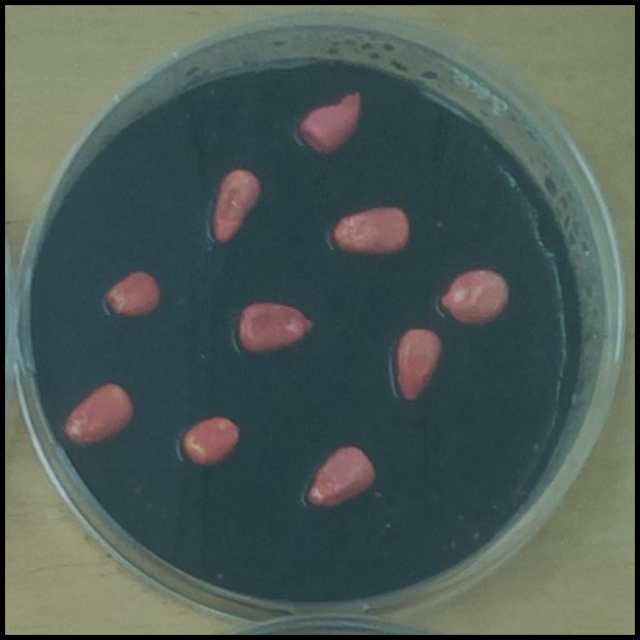Zea mays: (55, 376, 141, 454), (297, 440, 383, 517), (230, 294, 321, 364), (323, 198, 417, 264), (289, 86, 368, 164), (202, 163, 269, 252), (432, 262, 514, 333), (386, 320, 449, 411), (175, 409, 248, 477), (100, 266, 168, 326)
